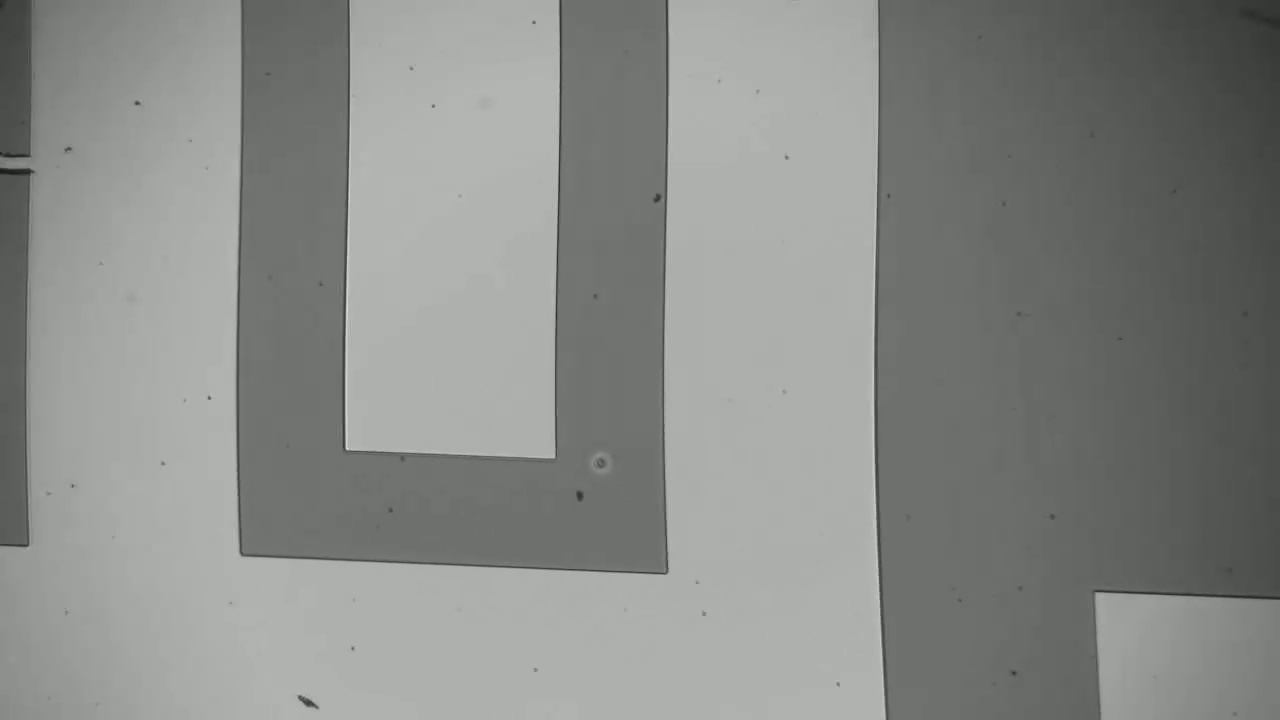Short_circuit: (0, 144, 55, 190)
